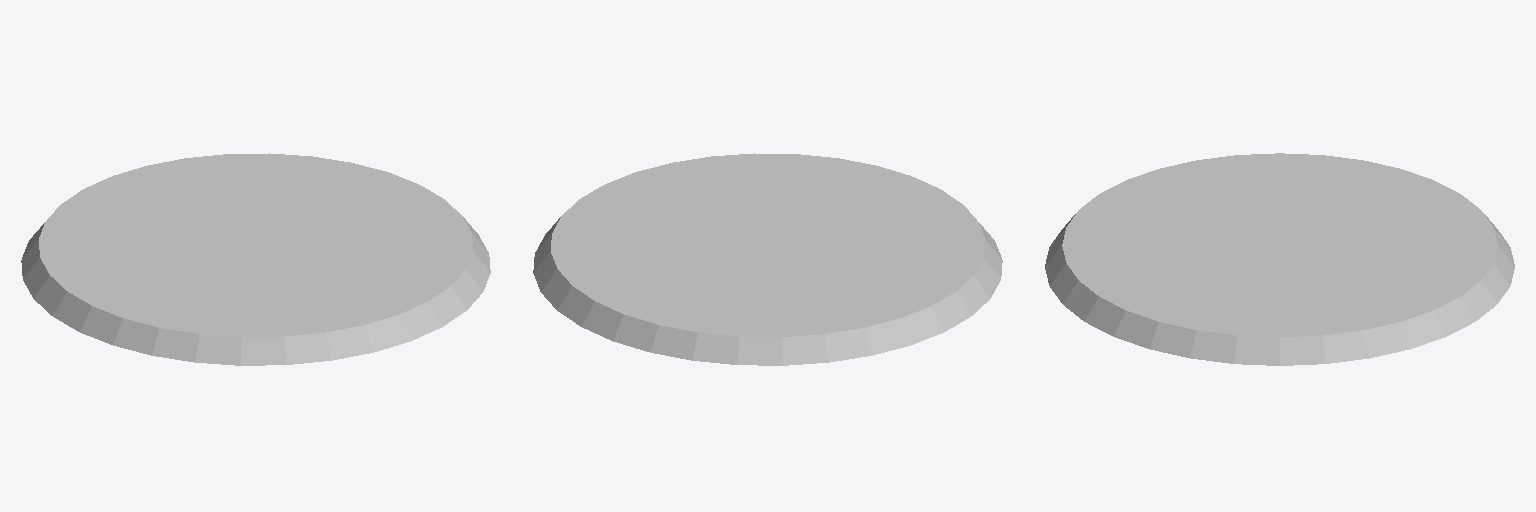
Rendered from Platform2.obj.
The picture shows the model from 3 angles: view 1: azimuth 30°, elevation 25°; view 2: azimuth 150°, elevation 25°; view 3: azimuth 270°, elevation 25°; orthographic projection.
Visible parts, largest first — view 1: Cylinder; view 2: Cylinder; view 3: Cylinder.
Part boxes in pixels (x1,y1,x2,y2): Cylinder: (21, 153, 490, 365); Cylinder: (533, 153, 1002, 365); Cylinder: (1045, 153, 1514, 365).
Size of the model in its own units: 40 by 2 by 40.